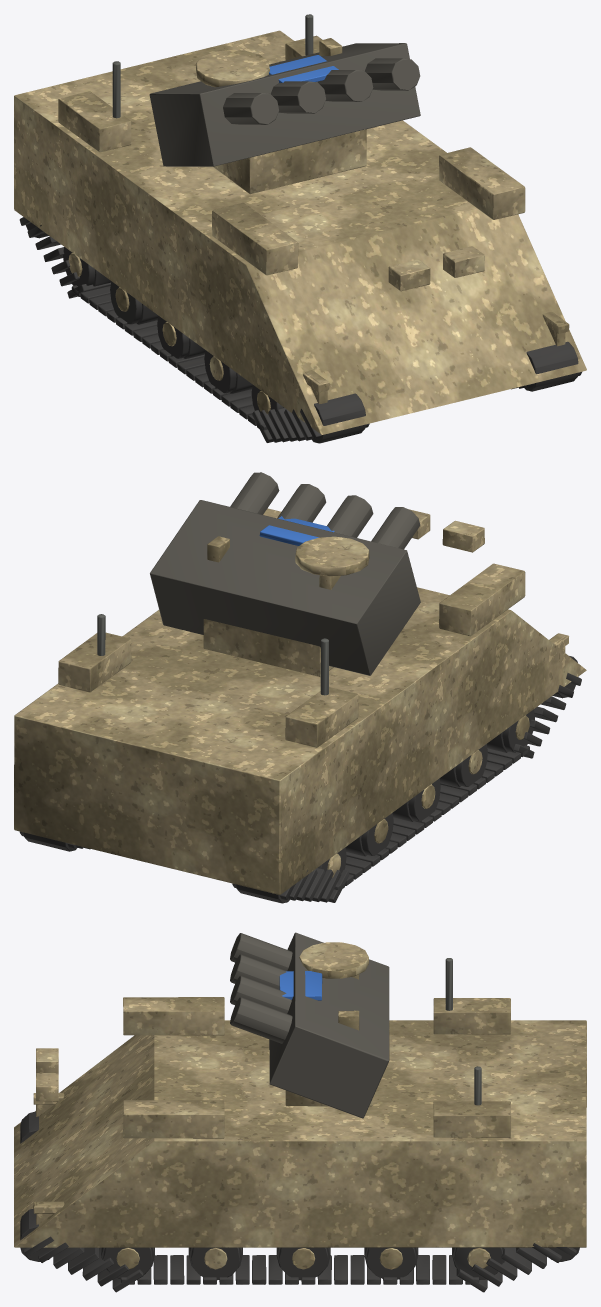
File: afv_e4_us_atgm_LOD1.glb
3 views of the same model, one above another, from view 1: azimuth 30°, elevation 25°; view 2: azimuth 150°, elevation 25°; view 3: azimuth 270°, elevation 25° (orthographic). The views are drawn at different scales.
Visible parts, largest first — view 1: afv_e4_us_atgm_LOD1_body, afv_e4_us_atgm_LOD1_deck, afv_e4_us_atgm_LOD1_track, afv_e4_us_atgm_LOD1_team, afv_e4_us_atgm_LOD1_gun; view 2: afv_e4_us_atgm_LOD1_body, afv_e4_us_atgm_LOD1_deck, afv_e4_us_atgm_LOD1_track, afv_e4_us_atgm_LOD1_team, afv_e4_us_atgm_LOD1_gun; view 3: afv_e4_us_atgm_LOD1_body, afv_e4_us_atgm_LOD1_deck, afv_e4_us_atgm_LOD1_track, afv_e4_us_atgm_LOD1_team, afv_e4_us_atgm_LOD1_gun.
Part boxes in pixels (box(x1,y1,x2,y2)): afv_e4_us_atgm_LOD1_body: box(14, 30, 586, 434); afv_e4_us_atgm_LOD1_deck: box(149, 43, 420, 166); afv_e4_us_atgm_LOD1_track: box(19, 217, 581, 443); afv_e4_us_atgm_LOD1_team: box(269, 55, 338, 82); afv_e4_us_atgm_LOD1_gun: box(112, 14, 313, 118); afv_e4_us_atgm_LOD1_body: box(14, 508, 586, 894); afv_e4_us_atgm_LOD1_deck: box(150, 472, 420, 675); afv_e4_us_atgm_LOD1_track: box(19, 656, 581, 903); afv_e4_us_atgm_LOD1_team: box(259, 516, 334, 545); afv_e4_us_atgm_LOD1_gun: box(97, 614, 328, 695); afv_e4_us_atgm_LOD1_body: box(14, 942, 586, 1269); afv_e4_us_atgm_LOD1_deck: box(230, 932, 389, 1118); afv_e4_us_atgm_LOD1_track: box(20, 1111, 579, 1292); afv_e4_us_atgm_LOD1_team: box(279, 971, 322, 1000); afv_e4_us_atgm_LOD1_gun: box(445, 958, 481, 1105).
Size of the model in its own units: 2.95 by 3.02 by 5.89.
Materials: 5 (1 with a texture image).
